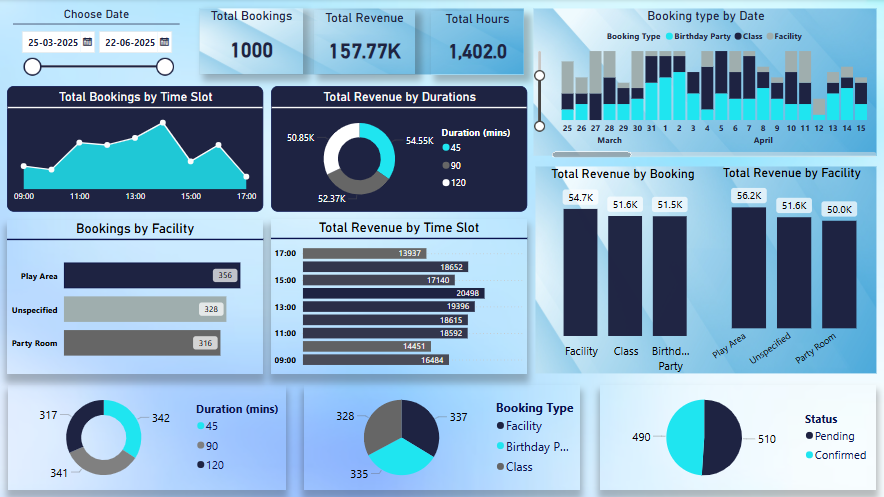

Layout of this report page (visuals, bound fields, positions):
{"tool":"powerbi","page":{"name":"Page 1","canvas":[1280,720],"ordinal":0},"visuals":[{"type":"image","box":[285.1,8.6,476.6,105.1],"z":0},{"type":"image","box":[766.1,8.6,504,221.8],"z":0,"group":"g4"},{"type":"image","box":[769,236.2,501.1,307.9],"z":0,"group":"g2"},{"type":"columnChart","title":"Booking type by Date","fields":{"Series":["Sheet1.Booking Type"],"Y":["CountNonNull(Sheet1.Booking ID)"],"Category":["Sheet1.Booking Date.Variation.Date Hierarchy.Month","Sheet1.Booking Date.Variation.Date Hierarchy.Day"]},"box":[768.9,12.9,501.1,220.3],"z":1000,"group":"g4"},{"type":"lineChart","title":"Total Bookings by Time Slot","fields":{"Category":["Sheet1.Time Slot"],"Y":["CountNonNull(Sheet1.Booking Type)"]},"box":[13,125.3,368.6,181.4],"z":1000},{"type":"clusteredColumnChart","title":"Total Revenue by Booking","fields":{"Category":["Sheet1.Booking Type"],"Y":["Sum(Sheet1.Price)"]},"box":[774.8,241.5,250.4,305.8],"z":2000,"group":"g1"},{"type":"donutChart","fields":{"Category":["Sheet1.Duration (mins)"],"Y":["CountNonNull(Sheet1.Booking ID)"]},"box":[15.1,556,399.8,151.2],"z":2000},{"type":"pieChart","fields":{"Category":["Sheet1.Booking Type"],"Y":["CountNonNull(Sheet1.Booking Type)"]},"box":[440.1,556,398.1,151.2],"z":3000},{"type":"clusteredBarChart","fields":{"Y":["CountNonNull(Sheet1.Booking Type)"],"Category":["Sheet1.Facility"]},"box":[13,318.2,368.6,221.8],"z":4000},{"type":"pieChart","fields":{"Category":["Sheet1.Status"],"Y":["CountNonNull(Sheet1.Status)"]},"box":[866.8,556,398.1,151.2],"z":5000},{"type":"donutChart","title":"Total Revenue by Durations","fields":{"Y":["Sum(Sheet1.Price)"],"Category":["Sheet1.Duration (mins)"]},"box":[393.1,125.3,368.6,181.4],"z":6000},{"type":"card","title":"Total Bookings","fields":{"Values":["CountNonNull(Sheet1.Booking Type)"]},"box":[290.9,13,148.3,95],"z":7000},{"type":"card","title":"Total Revenue","fields":{"Values":["Sum(Sheet1.Price)"]},"box":[455.2,15.3,145.4,92.2],"z":7000,"group":"g3"},{"type":"group","id":"g1","title":"Group 1","box":[774.8,239.4,495.4,307.9],"z":7000,"group":"g2"},{"type":"card","title":"Total Hours","fields":{"Values":["Sheet1.Total_Hours"]},"box":[623.5,17.3,133.9,92.2],"z":8000},{"type":"slicer","title":"Choose Date","fields":{"Values":["Sheet1.Booking Date"]},"box":[21.6,11.5,240.5,102.2],"z":9000},{"type":"group","id":"g2","title":"Group 3","box":[769,236.2,501.1,311],"z":10000},{"type":"clusteredBarChart","title":"Total Revenue by Time Slot","fields":{"Y":["Sum(Sheet1.Price)"],"Category":["Sheet1.Time Slot"]},"box":[393.1,316.8,368.6,223.2],"z":10000,"group":"g4"},{"type":"lineClusteredColumnComboChart","title":"Total Revenue by Facility","fields":{"Category":["Sheet1.Facility"],"Y":["Sum(Sheet1.Price)"]},"box":[1016.9,239.4,253.3,300.2],"z":10001,"group":"g1"},{"type":"group","id":"g3","title":"Group 2","box":[455.2,15.3,145.4,92.2],"z":11000},{"type":"group","id":"g4","title":"Group 4","box":[393.1,8.6,877,531.4],"z":12000}]}

Visuals, with their boxes in screenshot pixels (x1, y1, x2, y2), scaled from the page's 1280x720 canvas onto the 884x497 screenshot:
image: (197, 6, 526, 78)
image: (529, 6, 877, 159)
image: (531, 163, 877, 376)
"Booking type by Date" columnChart: (531, 9, 877, 161)
"Total Bookings by Time Slot" lineChart: (9, 86, 264, 212)
"Total Revenue by Booking" clusteredColumnChart: (535, 167, 708, 378)
donutChart - Sheet1.Duration (mins) x CountNonNull(Sheet1.Booking ID): (10, 384, 287, 488)
pieChart - Sheet1.Booking Type x CountNonNull(Sheet1.Booking Type): (304, 384, 579, 488)
clusteredBarChart - CountNonNull(Sheet1.Booking Type) x Sheet1.Facility: (9, 220, 264, 373)
pieChart - Sheet1.Status x CountNonNull(Sheet1.Status): (599, 384, 874, 488)
"Total Revenue by Durations" donutChart: (271, 86, 526, 212)
"Total Bookings" card: (201, 9, 303, 75)
"Total Revenue" card: (314, 11, 415, 74)
"Group 1" group: (535, 165, 877, 378)
"Total Hours" card: (431, 12, 523, 76)
"Choose Date" slicer: (15, 8, 181, 78)
"Group 3" group: (531, 163, 877, 378)
"Total Revenue by Time Slot" clusteredBarChart: (271, 219, 526, 373)
"Total Revenue by Facility" lineClusteredColumnComboChart: (702, 165, 877, 372)
"Group 2" group: (314, 11, 415, 74)
"Group 4" group: (271, 6, 877, 373)
